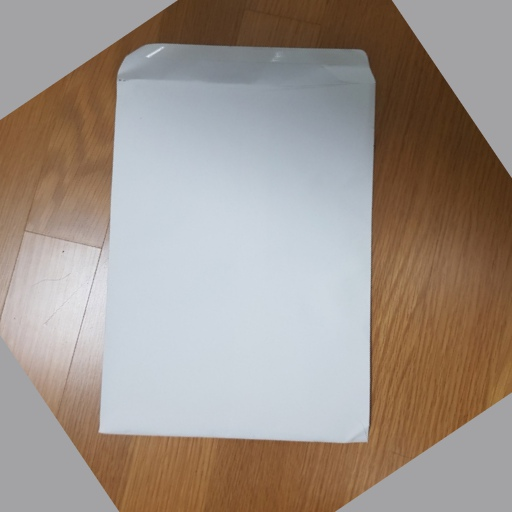Paper_2: (102, 38, 384, 470)
